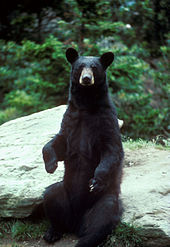bear: (40, 45, 126, 247)
